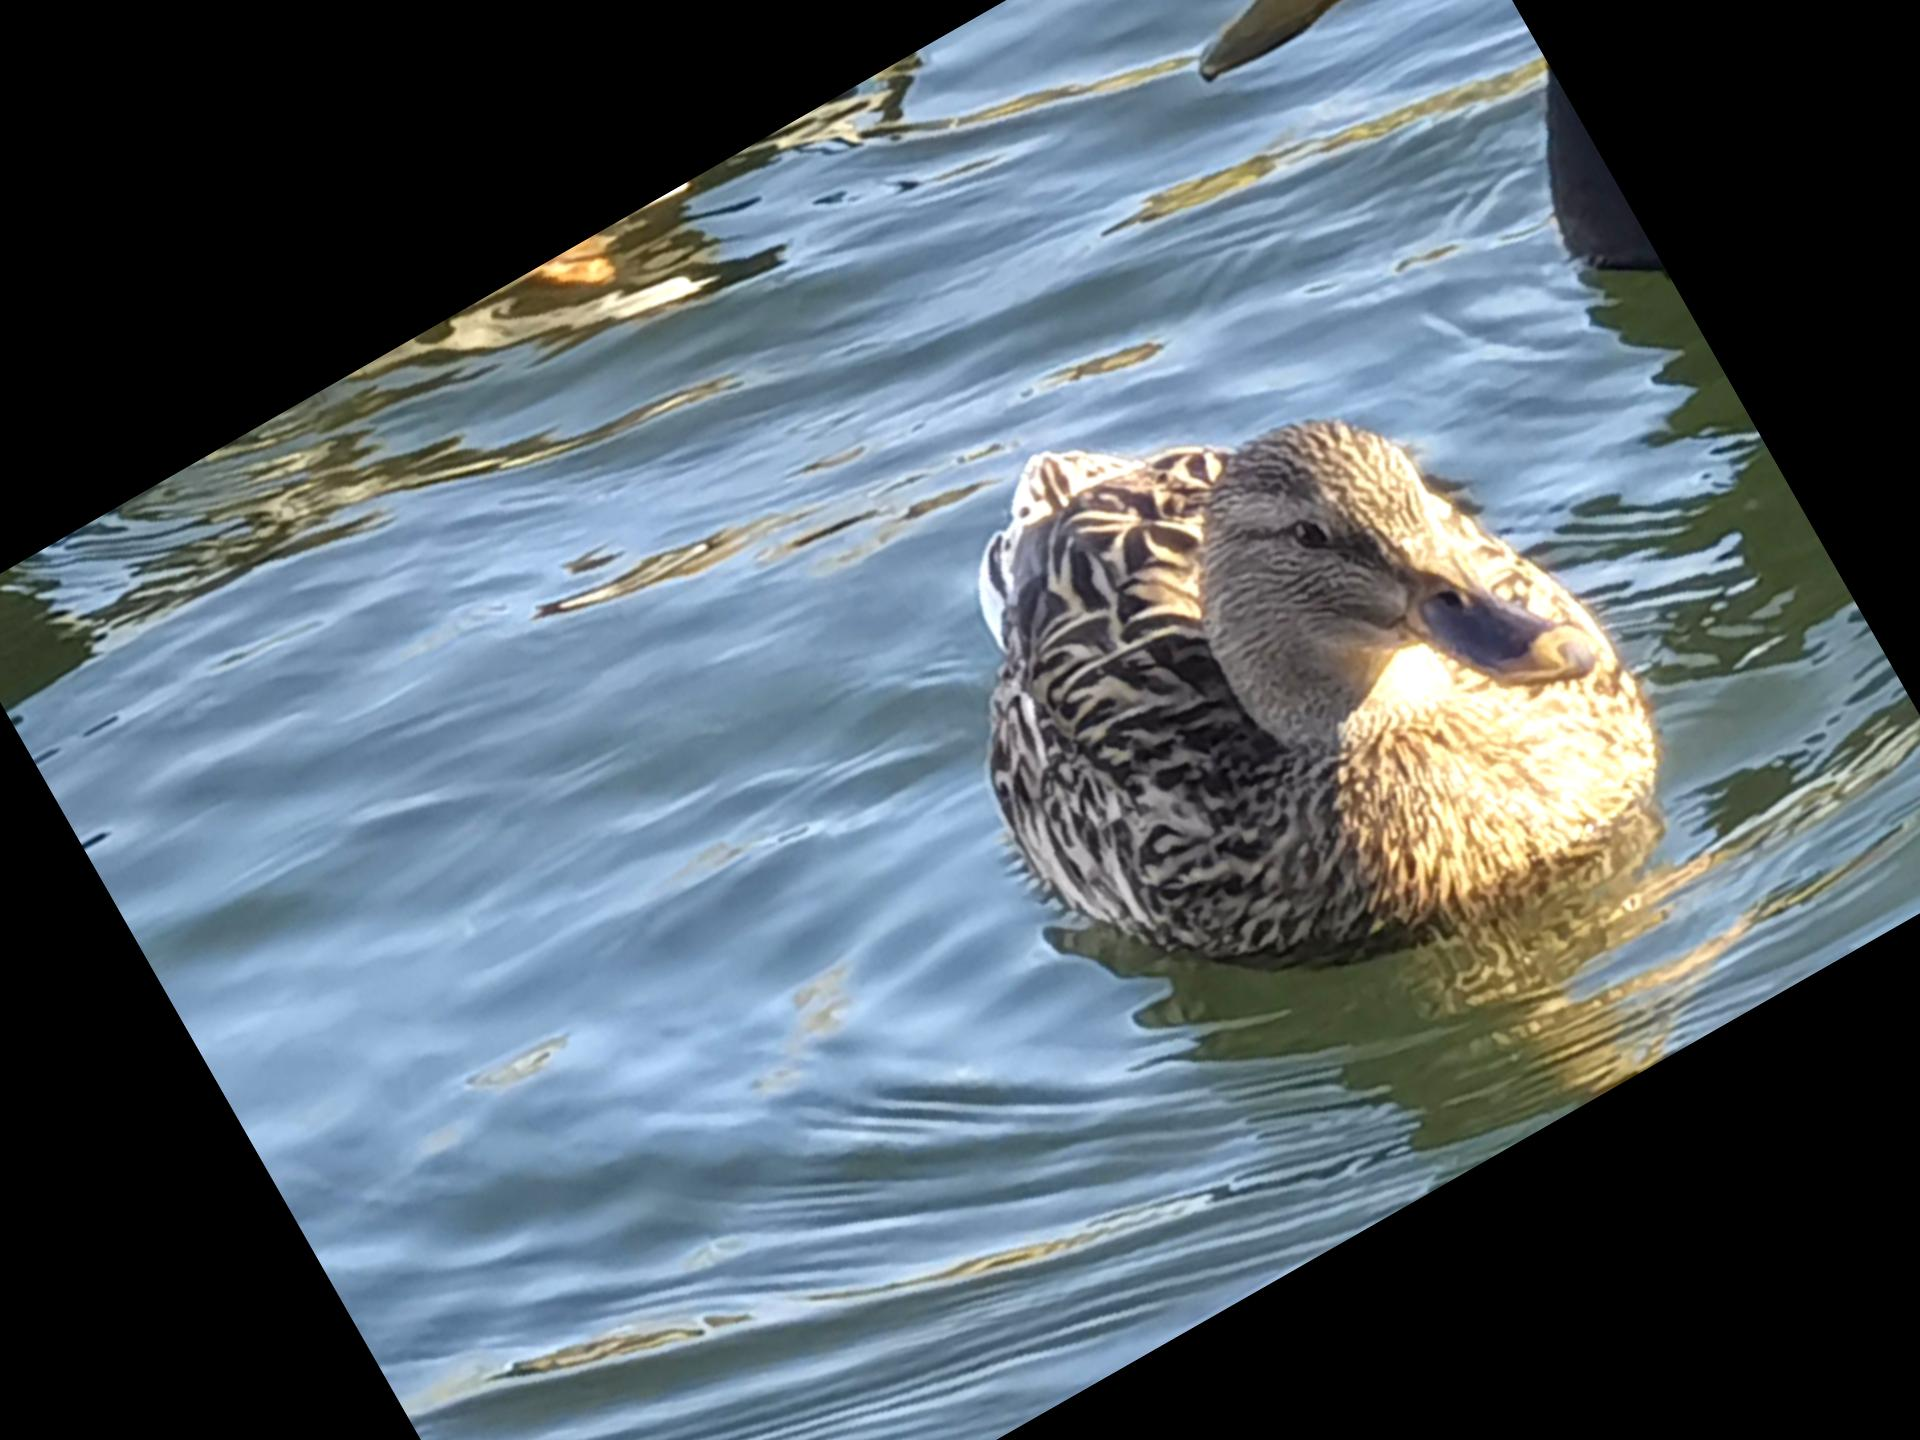duck: (812, 200, 1730, 1113)
